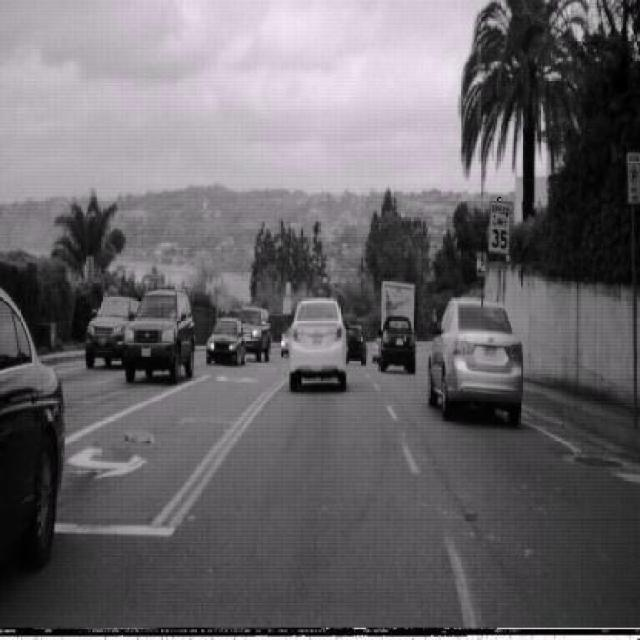speedLimit35: (489, 197, 514, 255)
